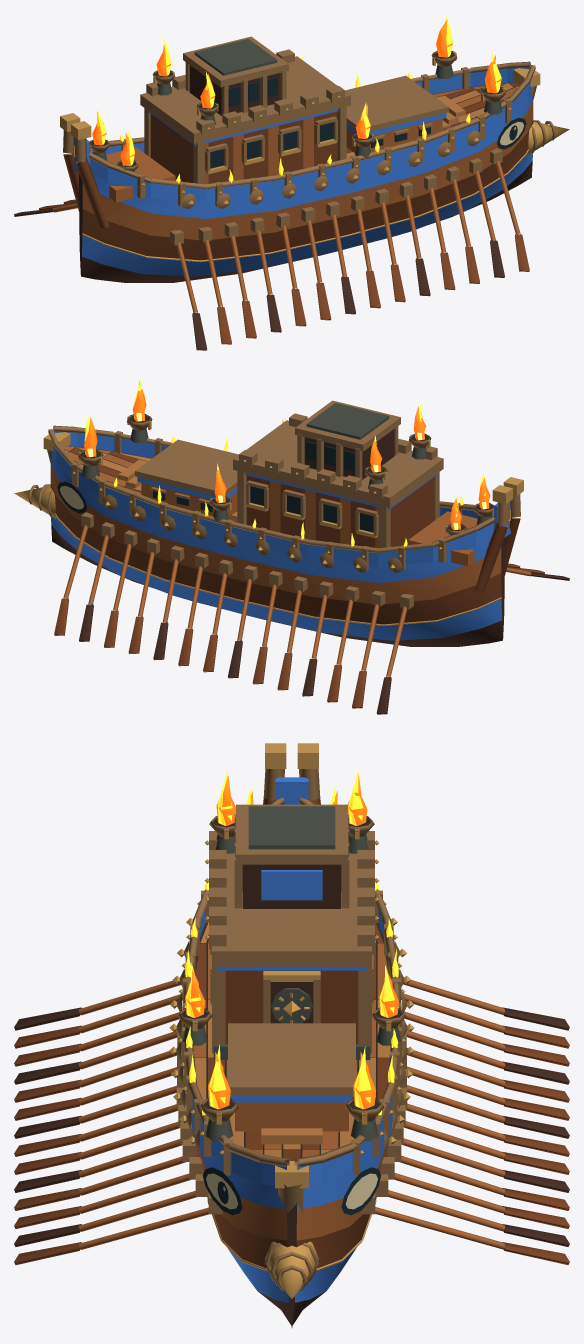
3 renders of one model, top to bottom at view 1: azimuth 30°, elevation 25°; view 2: azimuth 150°, elevation 25°; view 3: azimuth 270°, elevation 25°, orthographic. The views are drawn at different scales.
Parts seen in each view (by area): view 1: 腓尼基 · Phoenician fire galley; view 2: 腓尼基 · Phoenician fire galley; view 3: 腓尼基 · Phoenician fire galley.
Part boxes in pixels (box(x1,y1,x2,y2)): 腓尼基 · Phoenician fire galley: box(14, 15, 569, 350); 腓尼基 · Phoenician fire galley: box(14, 380, 569, 714); 腓尼基 · Phoenician fire galley: box(14, 743, 569, 1327).
Bounding box in the file's own units: 2.1 × 0.9367 × 1.35.
